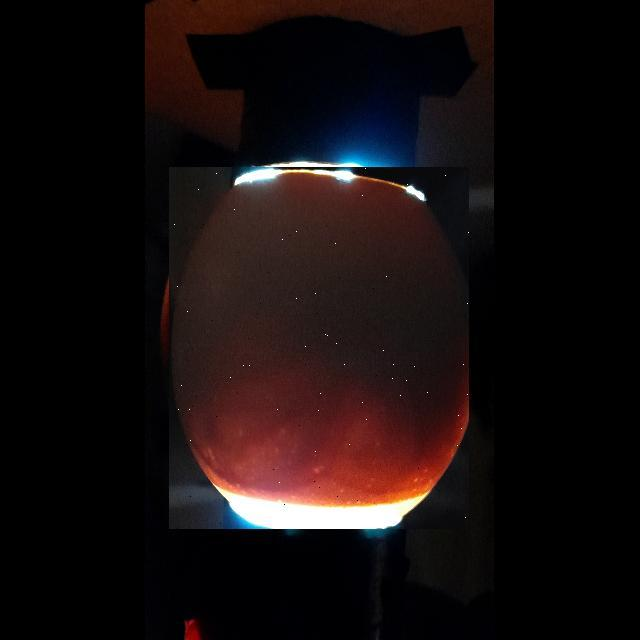Fertile: (169, 167, 469, 529)
